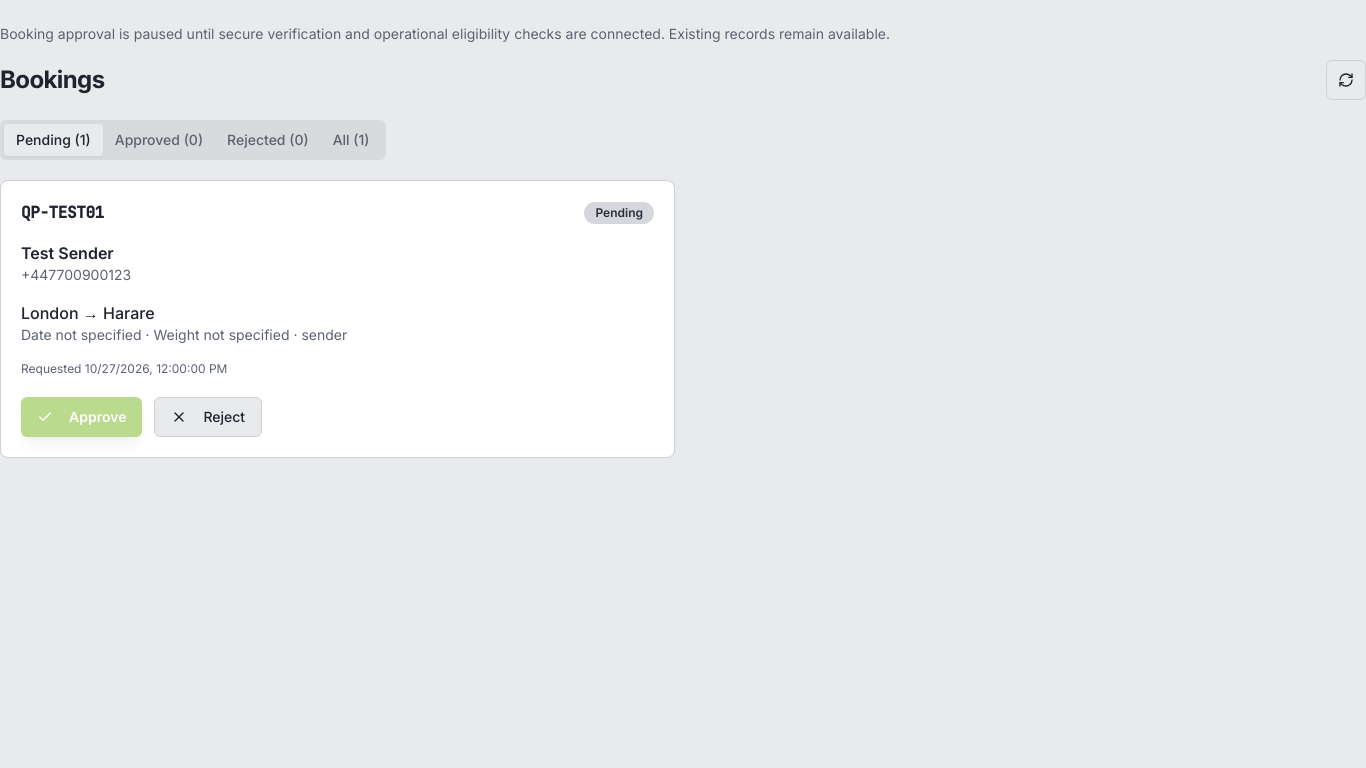
Scenario: Booking decisions › keeps the decision unsuccessful when the server denies access
Click the button "Reject" at (208, 417), box [154, 397, 262, 437]
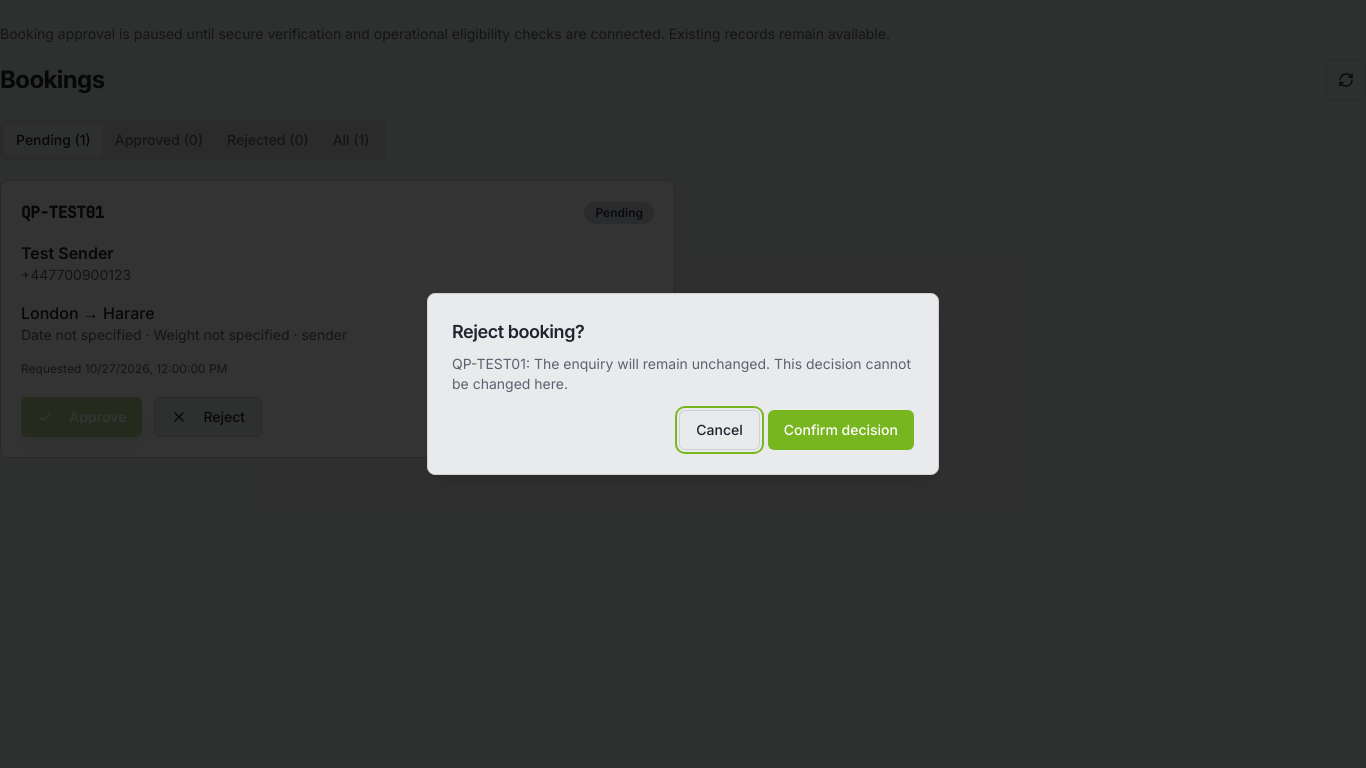
Click the button "Confirm decision" at (841, 430), box [768, 410, 914, 450]
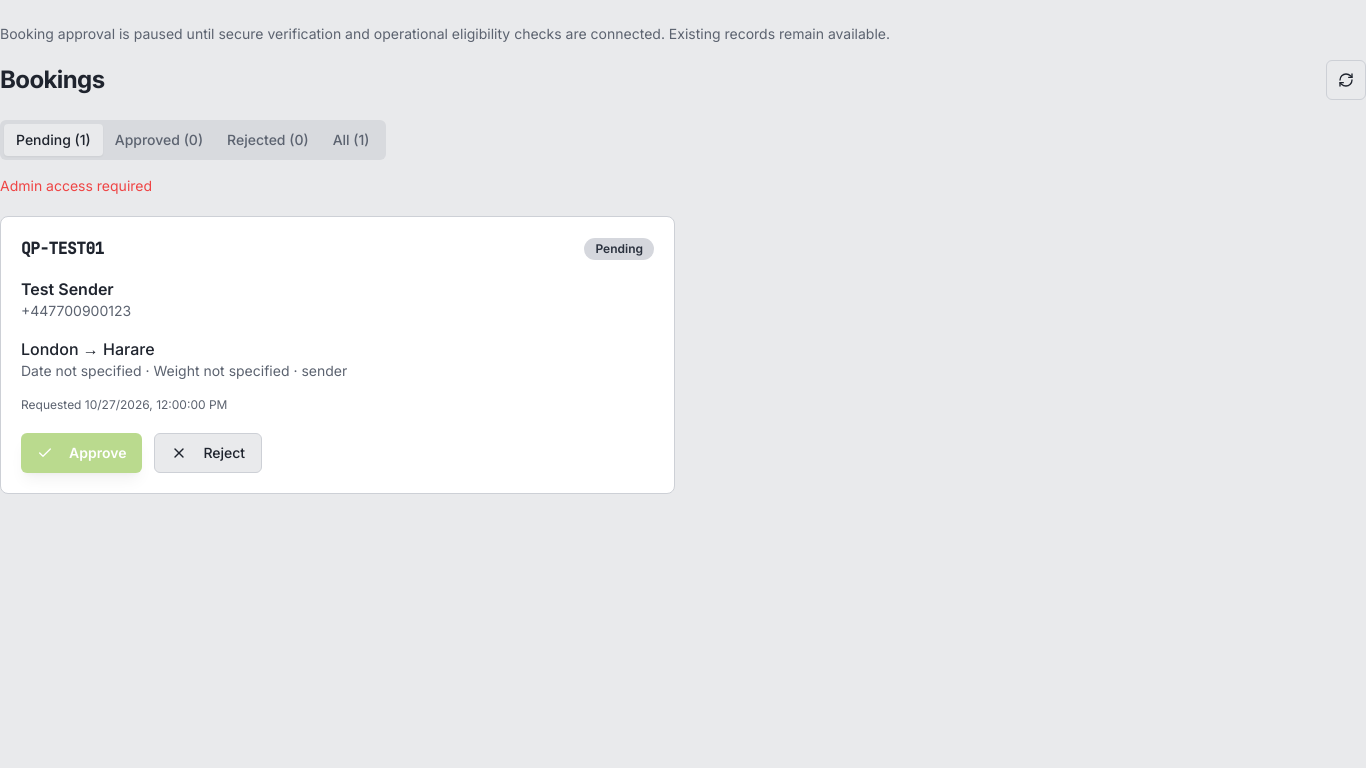
Now the message "Admin access required" is shown, box [0, 177, 152, 194]
